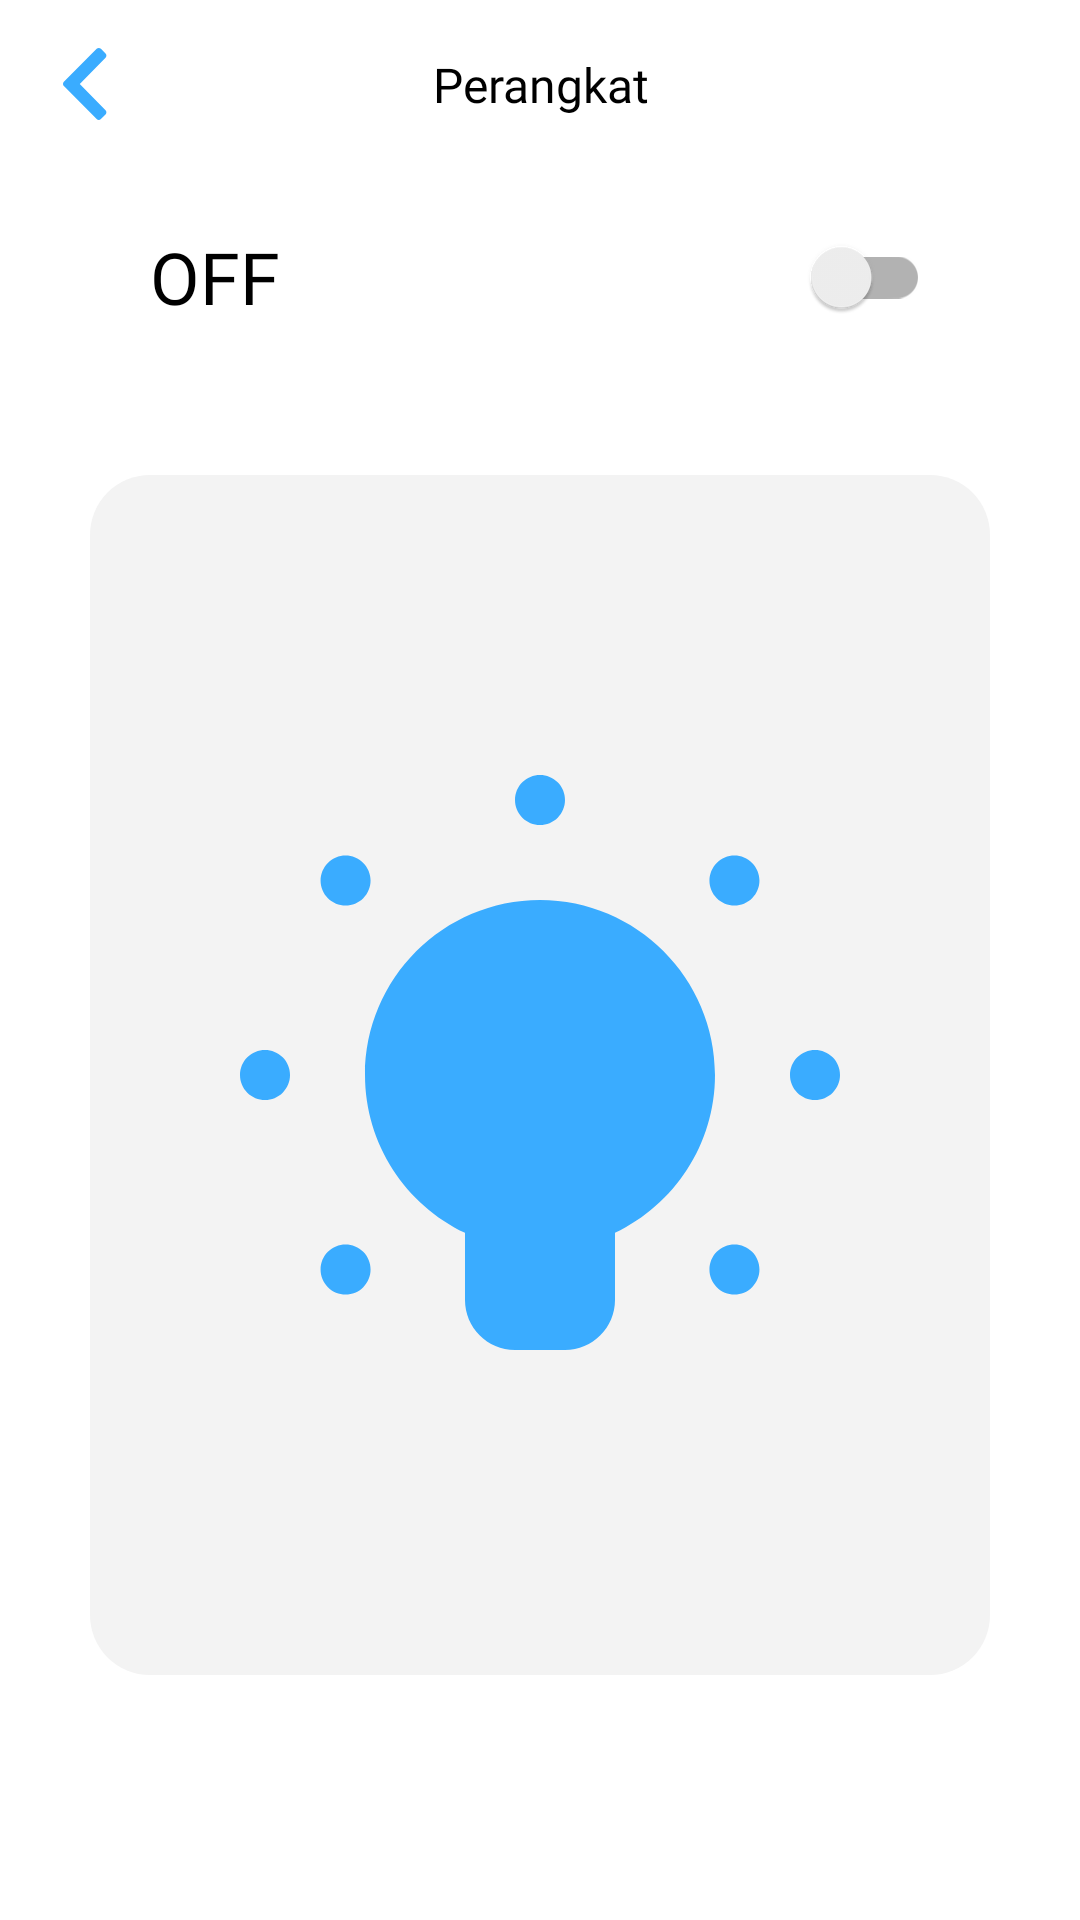

Icon bounding boxes for this 1080px x 1920px phone screenshot, format (x1, y1, x2, y2):
Kembali: (63, 48, 107, 120)
